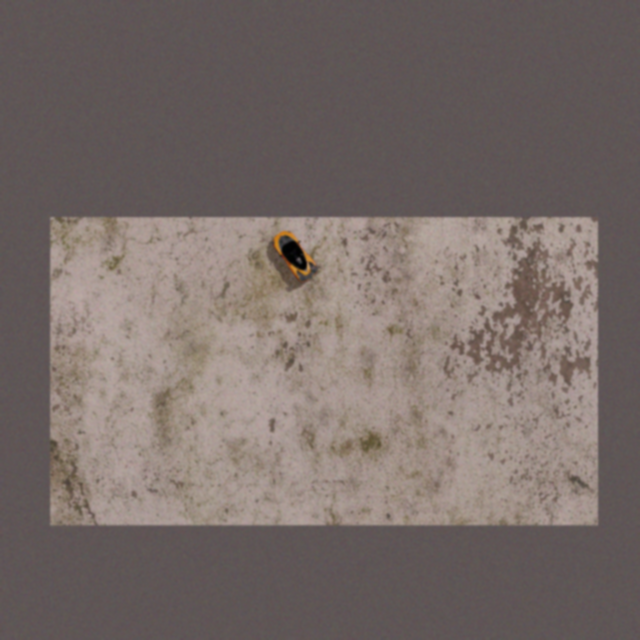car: (267, 223, 322, 287)
